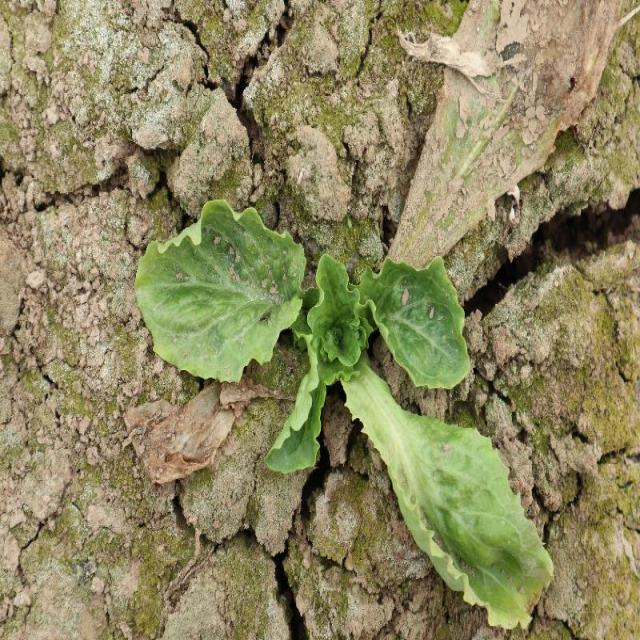crop: (133, 196, 556, 640)
